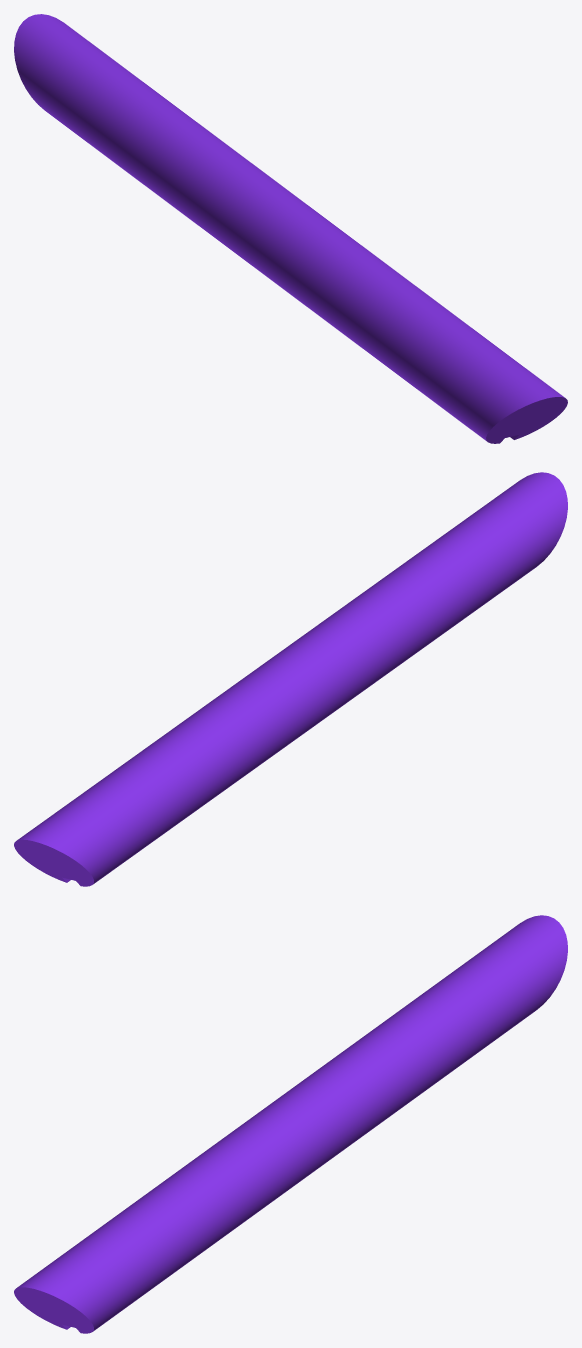
Rendered from cotbasporte.glb.
The picture shows the model from 3 angles, top to bottom: view 1: azimuth 30°, elevation 25°; view 2: azimuth 150°, elevation 25°; view 3: azimuth 330°, elevation 25°; orthographic projection. The views are drawn at different scales.
Visible parts, largest first — view 1: opening_door.001; view 2: opening_door.001; view 3: opening_door.001.
Part boxes in pixels (box(x1,y1,x2,y2)): opening_door.001: box(14, 14, 567, 443); opening_door.001: box(14, 472, 567, 886); opening_door.001: box(14, 915, 567, 1333).
Size of the model in its own units: 4.34 by 4.1 by 51.04.
